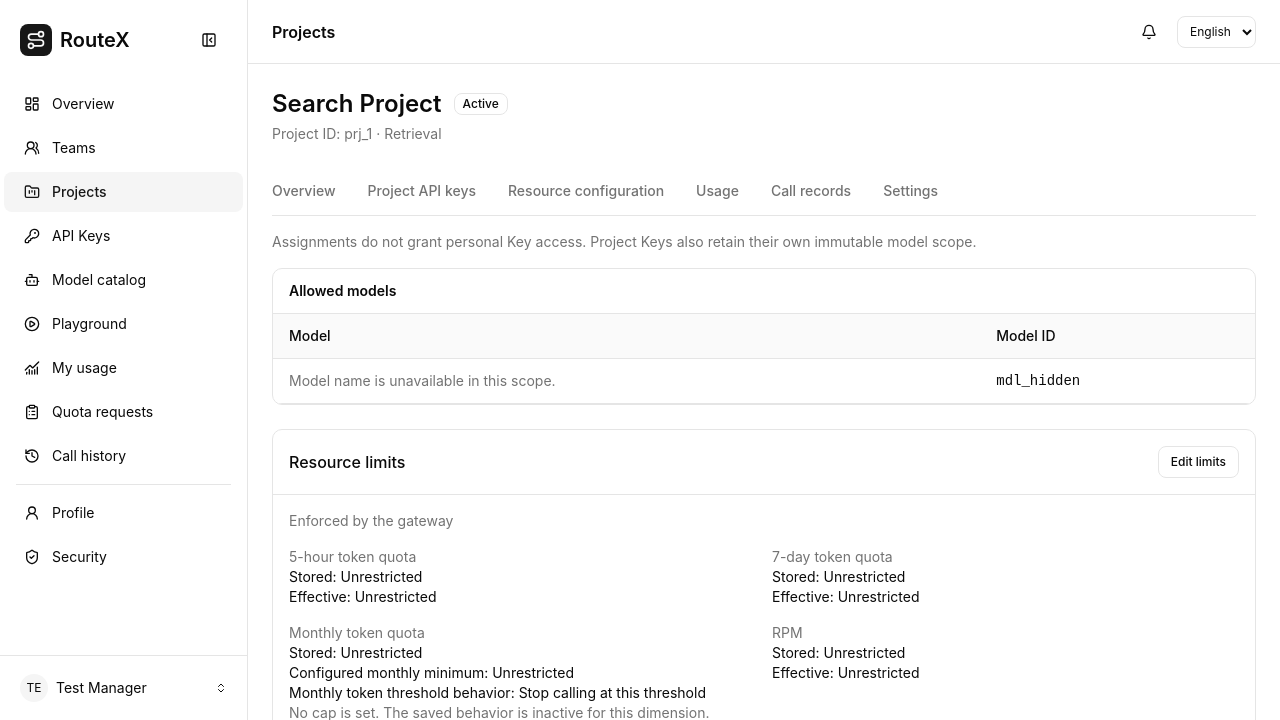
Team and Project resource workflows › edits active Project limits inline only with projects.limits.write
Click the button "Edit limits".
click(1198, 462)  # box [1158,446,1239,478]
(page scrolled)
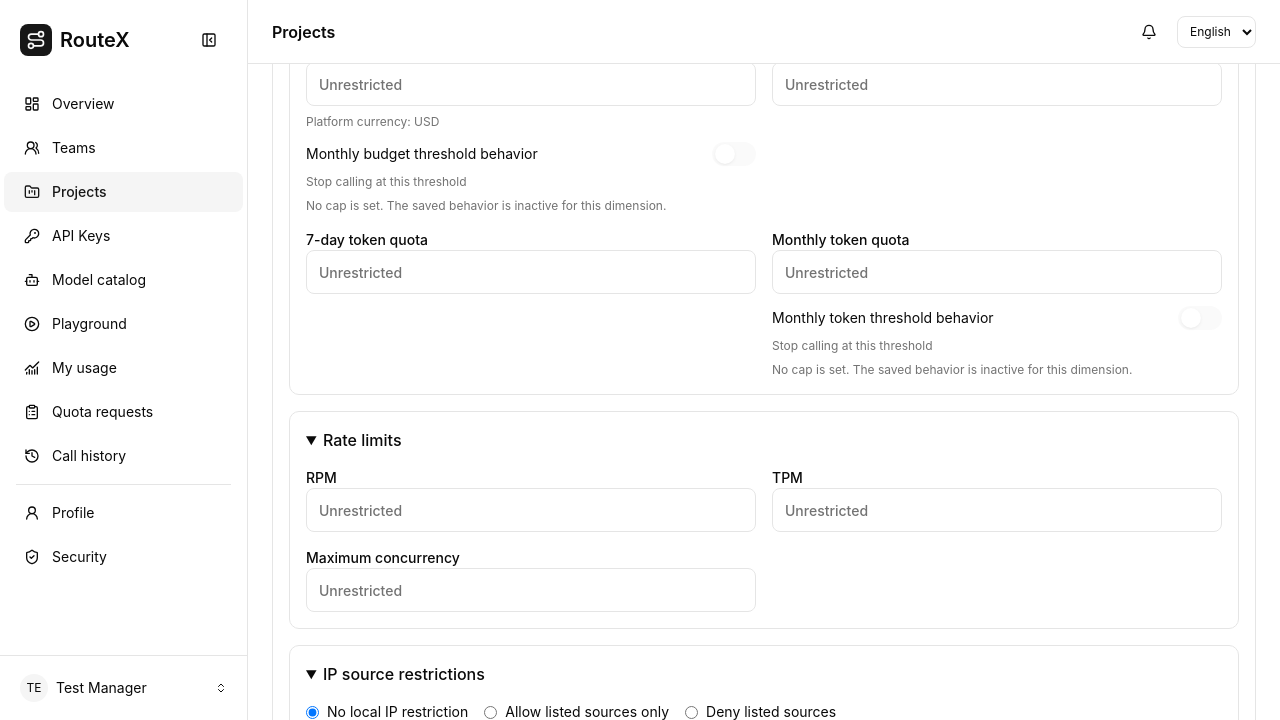
Check: the form named "Proposed policy" is shown
